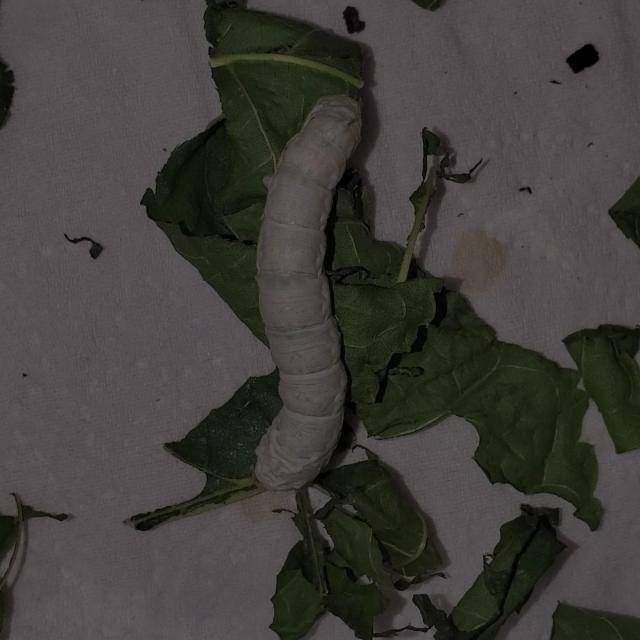Healthy: (221, 70, 399, 519)
